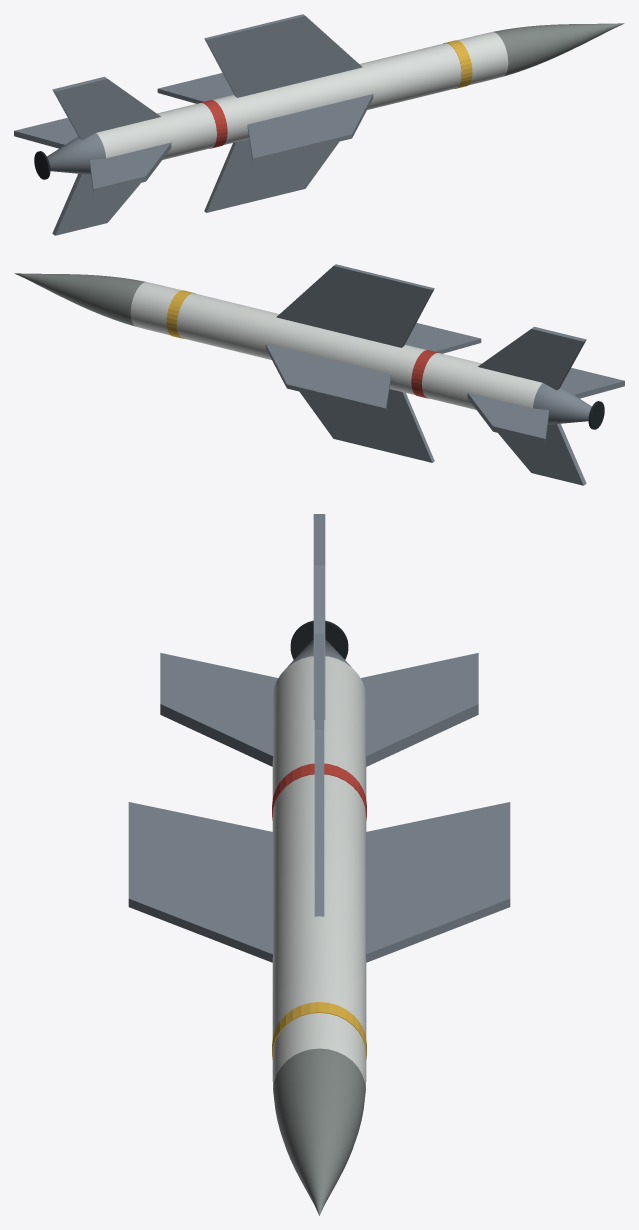
File: shtil1.glb
The picture shows the model from 3 angles, top to bottom: view 1: azimuth 30°, elevation 25°; view 2: azimuth 150°, elevation 25°; view 3: azimuth 270°, elevation 25°; orthographic projection. The views are drawn at different scales.
Parts seen in each view (by area): view 1: shtil1; view 2: shtil1; view 3: shtil1.
Boxes of the visible parts, box(x1,y1,x2,y2) form: shtil1: box(14, 14, 624, 235); shtil1: box(14, 264, 624, 485); shtil1: box(128, 514, 510, 1215).
Bounding box in the file's own units: 10 × 2.83 × 2.83.
